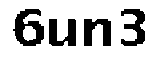3: (115, 5, 150, 53)
6: (9, 3, 46, 49)
n: (82, 15, 115, 53)
u: (45, 15, 80, 50)
